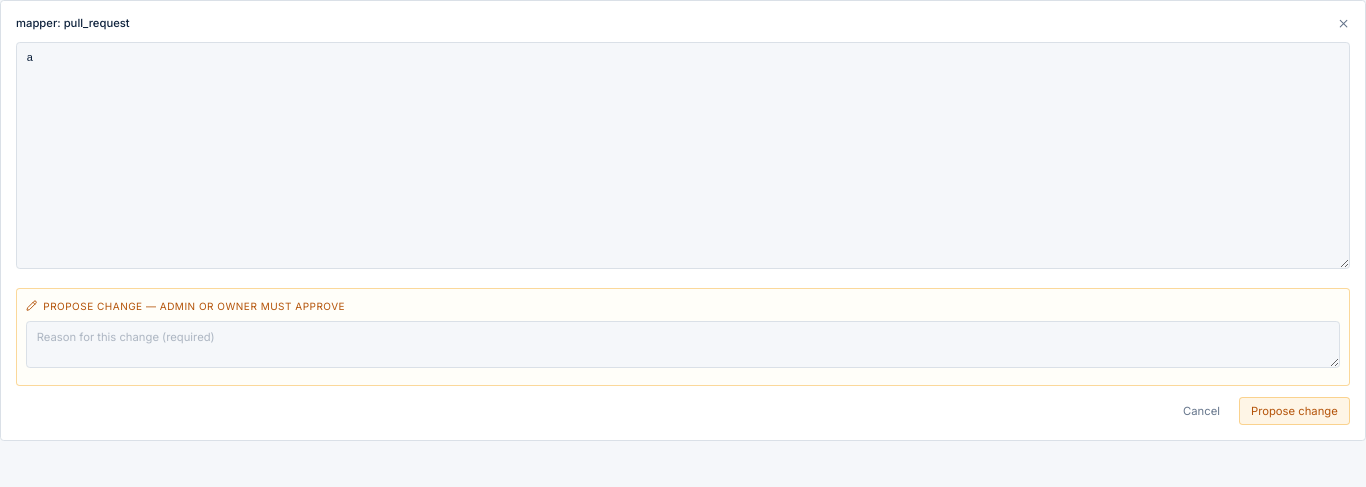
Test: GovernedYamlEditor — member › shows inline error on propose failure and keeps editor open
Type "why" into the text box with placeholder "Reason for this change (required)". click: (683, 345)
box: [26, 321, 1340, 368]
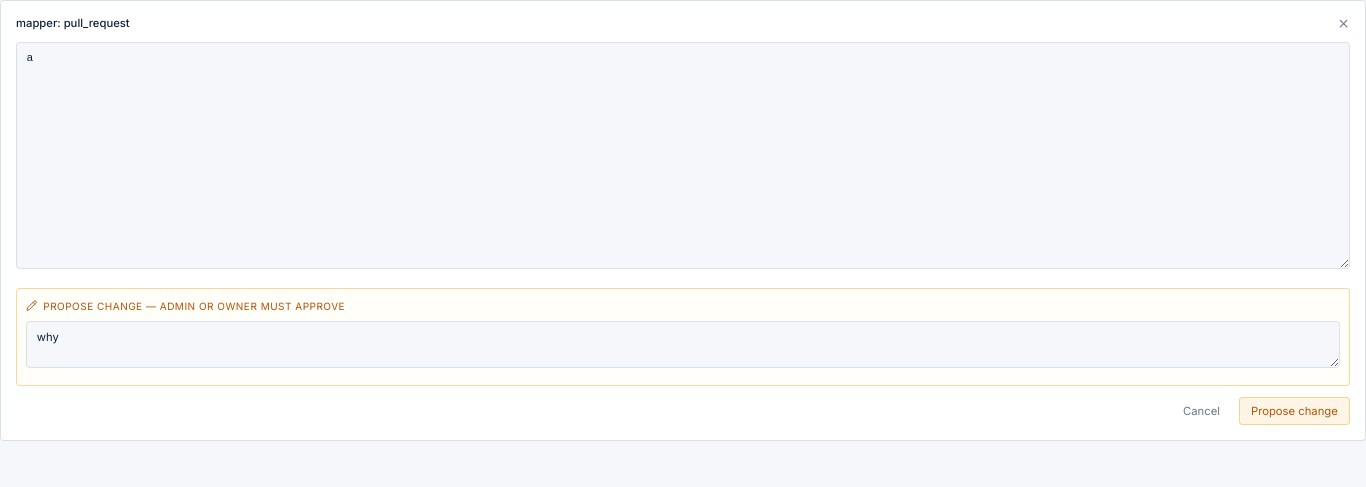
Click the button "Propose change". click: (1294, 411)
box: [1239, 397, 1350, 425]
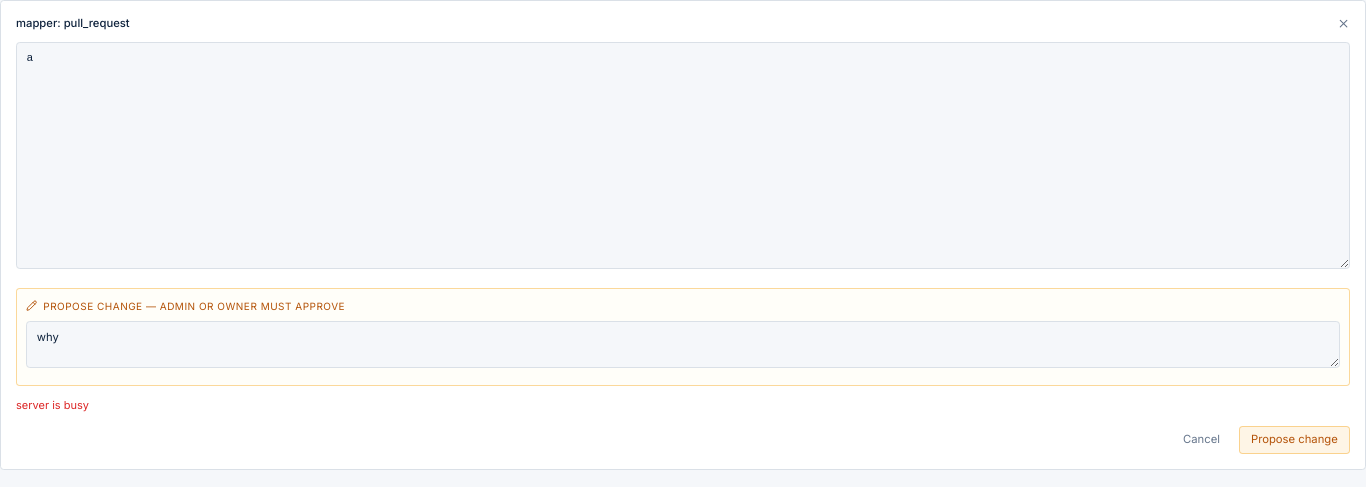
Expected: the text "server is busy" is shown, [16, 398, 89, 412]
